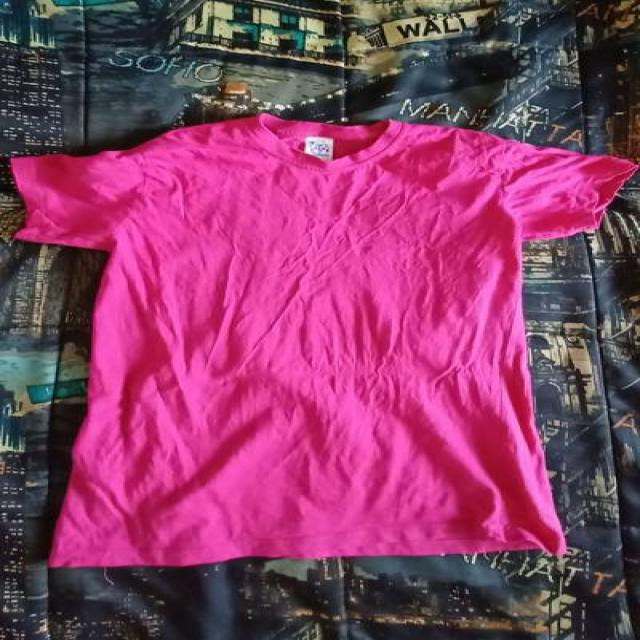Clothes -Biodegradable-: (13, 111, 632, 564)
